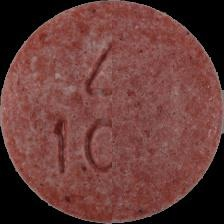0185-0630: (0, 0, 224, 224)
